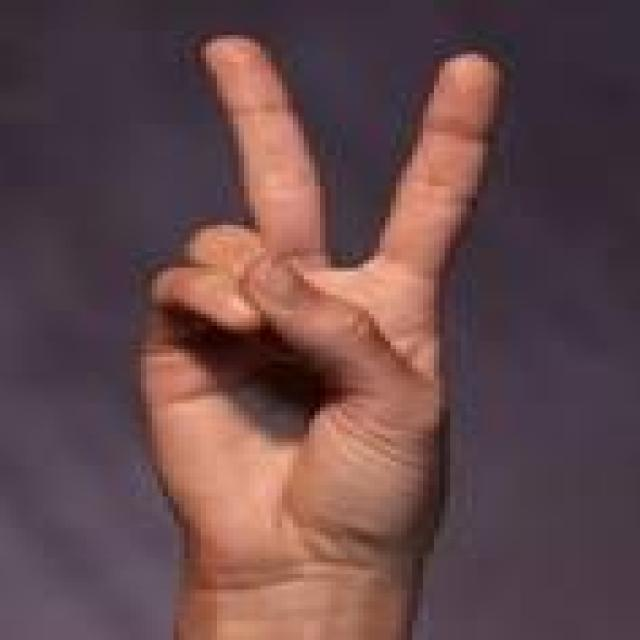V: (117, 23, 518, 586)
